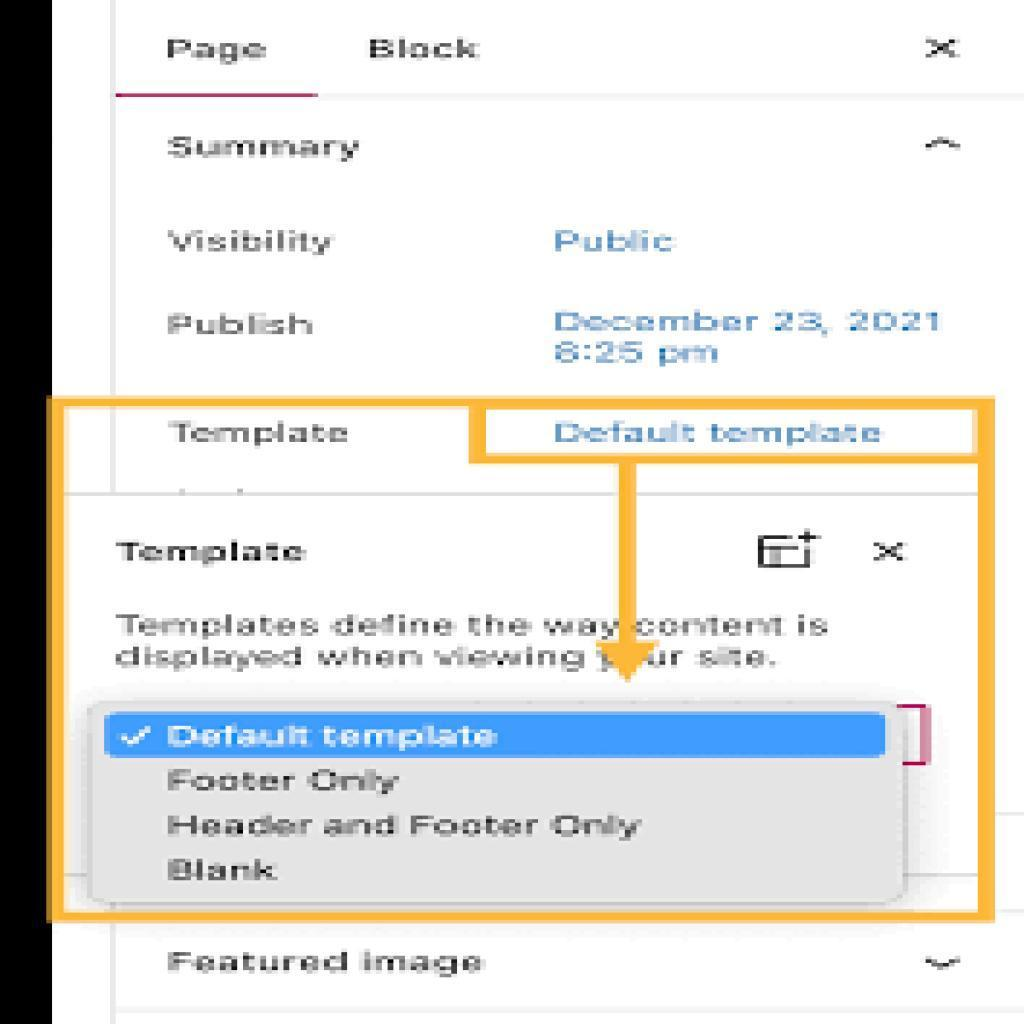dropdown: (94, 106, 1022, 211), (101, 929, 1024, 1023)
